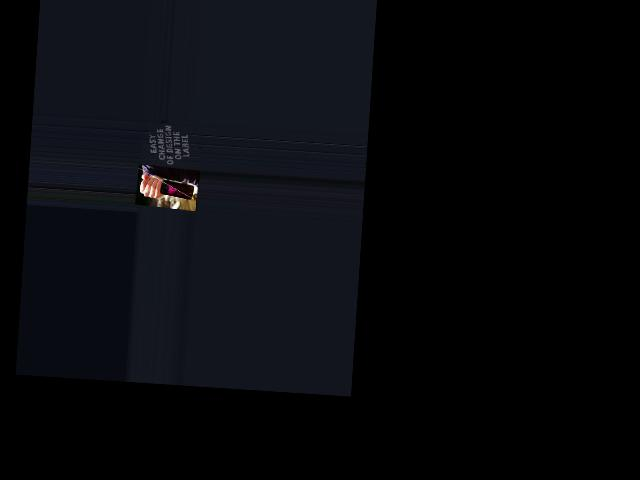beer: (138, 178, 194, 199)
